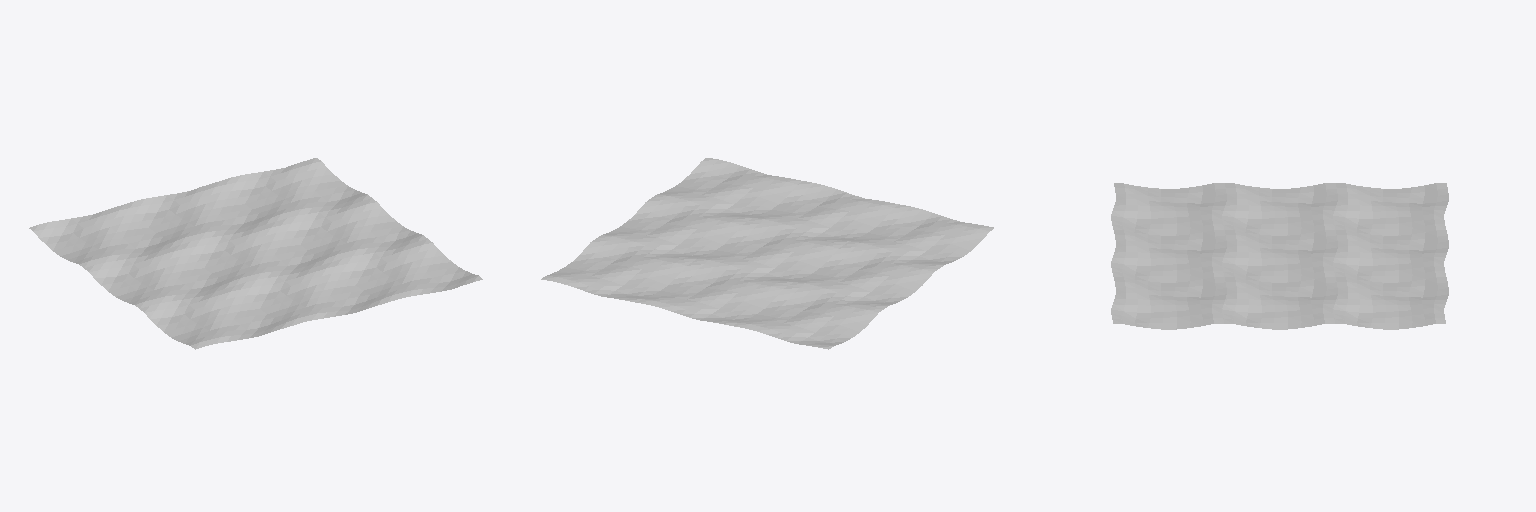
The model's file is ocean_000070.obj.
3 views of the same model, side by side, from view 1: azimuth 30°, elevation 25°; view 2: azimuth 150°, elevation 25°; view 3: azimuth 270°, elevation 25° (orthographic).
Visible parts, largest first — view 1: Ocean_Plan.001; view 2: Ocean_Plan.001; view 3: Ocean_Plan.001.
Part boxes in pixels (left/top/right/bottom): Ocean_Plan.001: left=29, top=158, right=482, bottom=349; Ocean_Plan.001: left=541, top=158, right=993, bottom=349; Ocean_Plan.001: left=1111, top=183, right=1448, bottom=329.
Size of the model in its own units: 109221 by 2303 by 110504.